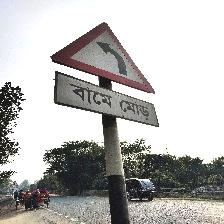Left-Turn: (49, 21, 158, 127)
